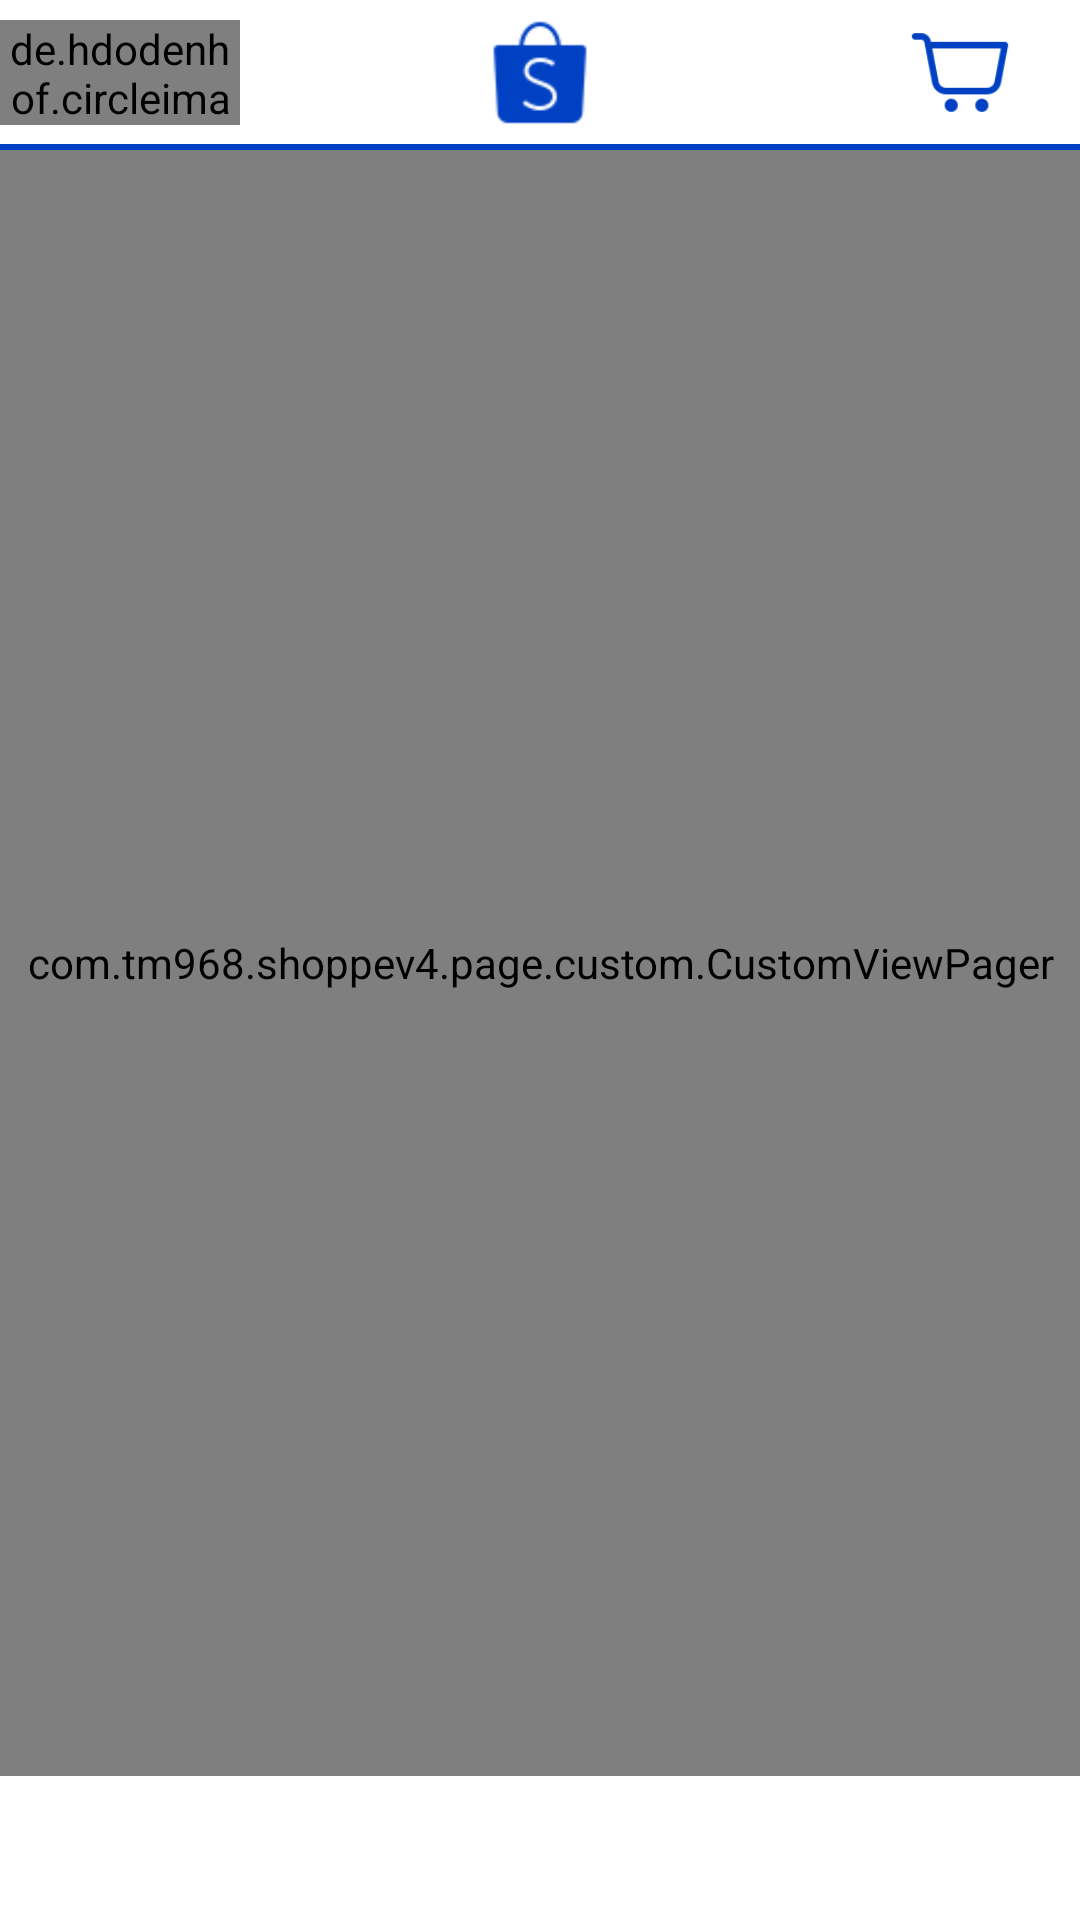

Icons on this 1080x1920 Android screen, each with the point to tap as (x=x, y=y):
tmshopcart: (x=960, y=72)
